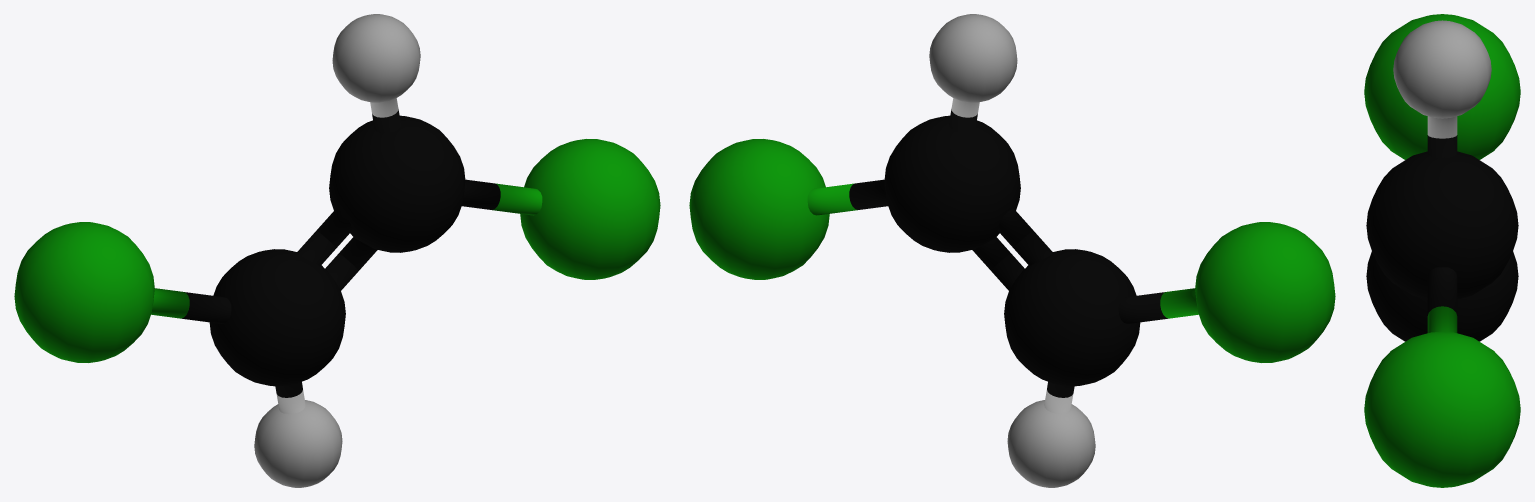
Rendered from asset.glb.
3 renders of one model, left to right at view 1: azimuth 30°, elevation 25°; view 2: azimuth 150°, elevation 25°; view 3: azimuth 270°, elevation 25°, orthographic. The views are drawn at different scales.
Parts seen in each view (by area): view 1: Shape_Sphere, Shape_Sphere.001, Shape_Sphere.002, Shape_Sphere.003, Shape_Sphere.005, Shape_Sphere.004, Shape_Cylinder.001, Shape_Cylinder.002, Shape_Cylinder.003, Shape_Cylinder, Shape_Cylinder.006, Shape_Cylinder.004; view 2: Shape_Sphere, Shape_Sphere.001, Shape_Sphere.002, Shape_Sphere.003, Shape_Sphere.005, Shape_Sphere.004, Shape_Cylinder.001, Shape_Cylinder.002, Shape_Cylinder.003, Shape_Cylinder, Shape_Cylinder.006, Shape_Cylinder.004; view 3: Shape_Sphere.001, Shape_Sphere.003, Shape_Sphere, Shape_Sphere.005, Shape_Sphere.002, Shape_Cylinder.003, Shape_Cylinder.002, Shape_Cylinder.011, Shape_Cylinder.010.
Boxes of the visible parts, left/top/right/bottom form: Shape_Sphere: left=14, top=222, right=154, bottom=362; Shape_Sphere.001: left=520, top=139, right=660, bottom=279; Shape_Sphere.002: left=209, top=249, right=345, bottom=386; Shape_Sphere.003: left=329, top=115, right=465, bottom=252; Shape_Sphere.005: left=332, top=14, right=420, bottom=102; Shape_Sphere.004: left=254, top=400, right=342, bottom=487; Shape_Cylinder.001: left=181, top=292, right=231, bottom=323; Shape_Cylinder.002: left=492, top=183, right=542, bottom=215; Shape_Cylinder.003: left=462, top=179, right=500, bottom=209; Shape_Cylinder: left=151, top=288, right=189, bottom=318; Shape_Cylinder.006: left=316, top=208, right=352, bottom=248; Shape_Cylinder.004: left=297, top=230, right=335, bottom=265; Shape_Sphere: left=1195, top=222, right=1335, bottom=362; Shape_Sphere.001: left=689, top=139, right=829, bottom=279; Shape_Sphere.002: left=1004, top=249, right=1140, bottom=386; Shape_Sphere.003: left=884, top=115, right=1020, bottom=252; Shape_Sphere.005: left=929, top=14, right=1017, bottom=102; Shape_Sphere.004: left=1007, top=400, right=1095, bottom=487; Shape_Cylinder.001: left=1118, top=292, right=1168, bottom=323; Shape_Cylinder.002: left=807, top=183, right=857, bottom=215; Shape_Cylinder.003: left=849, top=179, right=887, bottom=209; Shape_Cylinder: left=1160, top=288, right=1198, bottom=318; Shape_Cylinder.006: left=997, top=208, right=1033, bottom=248; Shape_Cylinder.004: left=1014, top=230, right=1052, bottom=265; Shape_Sphere.001: left=1364, top=331, right=1520, bottom=487; Shape_Sphere.003: left=1366, top=151, right=1518, bottom=299; Shape_Sphere: left=1364, top=14, right=1520, bottom=159; Shape_Sphere.005: left=1393, top=20, right=1491, bottom=118; Shape_Sphere.002: left=1366, top=251, right=1518, bottom=341; Shape_Cylinder.003: left=1427, top=267, right=1457, bottom=315; Shape_Cylinder.002: left=1427, top=306, right=1457, bottom=332; Shape_Cylinder.011: left=1427, top=116, right=1457, bottom=138; Shape_Cylinder.010: left=1427, top=135, right=1457, bottom=157.
Size of the model in its own units: 5.38 by 3.66 by 1.05.
